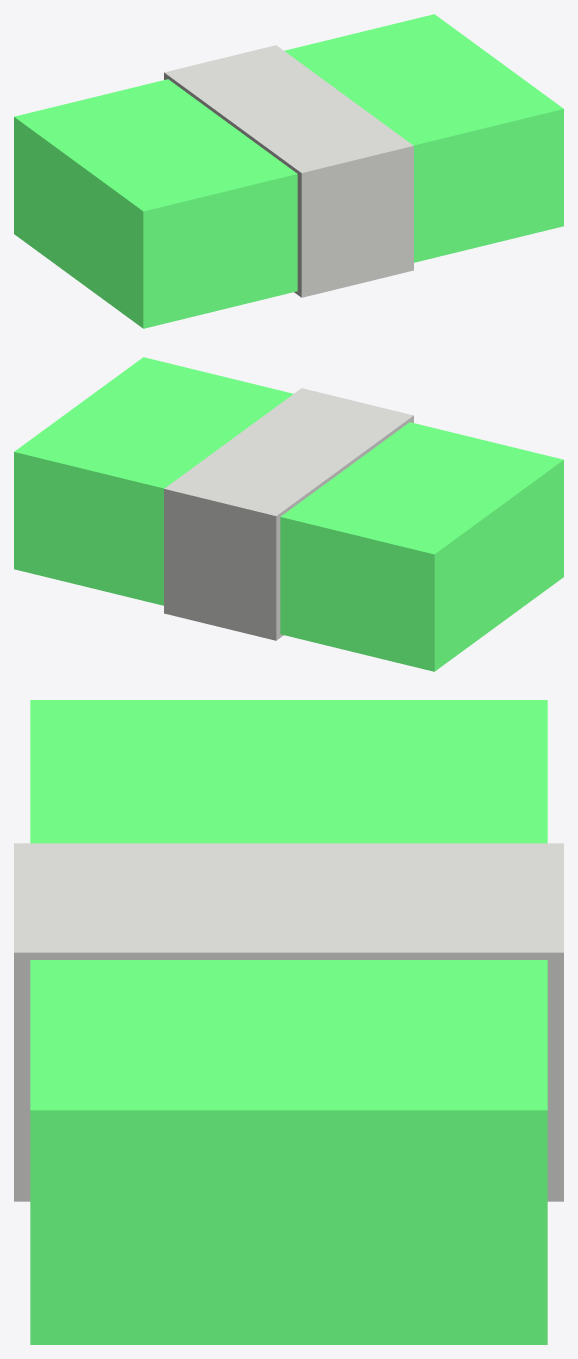
The model's file is prop_pickup_cash.glb.
The picture shows the model from 3 angles, top to bottom: view 1: azimuth 30°, elevation 25°; view 2: azimuth 150°, elevation 25°; view 3: azimuth 270°, elevation 25°; orthographic projection. The views are drawn at different scales.
Visible parts, largest first — view 1: prop_pickup_cash__mesh; view 2: prop_pickup_cash__mesh; view 3: prop_pickup_cash__mesh.
Boxes of the visible parts, bbox=[...] form: prop_pickup_cash__mesh: bbox=[14, 14, 563, 328]; prop_pickup_cash__mesh: bbox=[14, 357, 563, 671]; prop_pickup_cash__mesh: bbox=[14, 700, 563, 1344].
Bounding box in the file's own units: 0.3 × 0.085 × 0.17.
